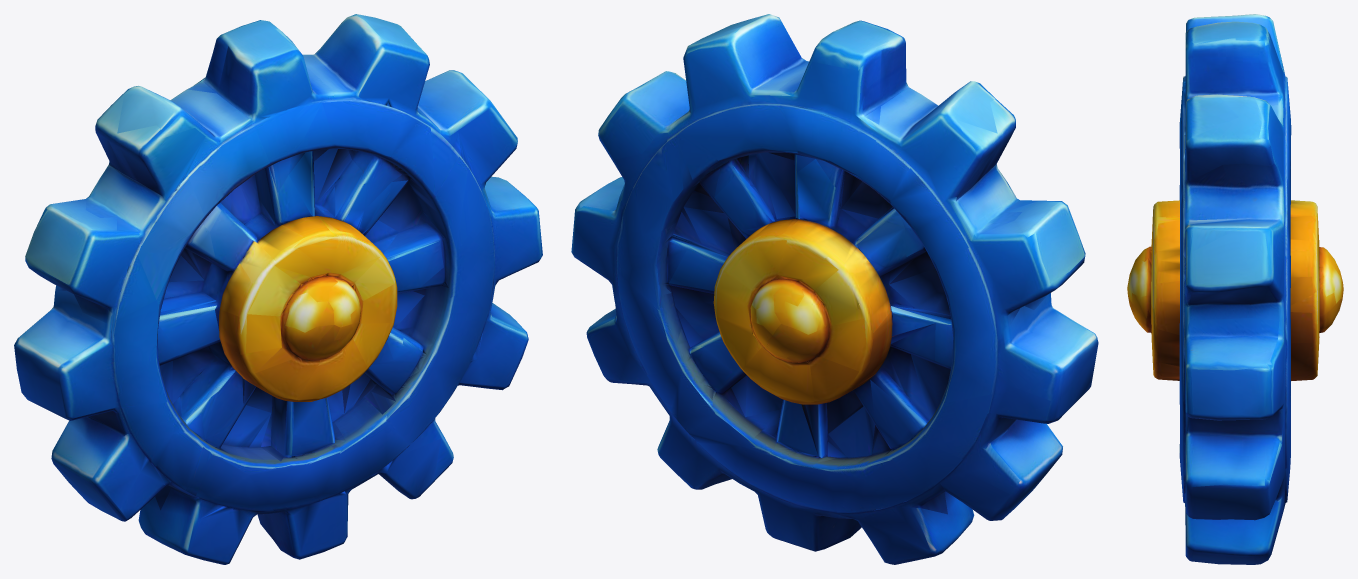
File: gear_v2_tripo.glb
The picture shows the model from 3 angles, left to right: view 1: azimuth 30°, elevation 25°; view 2: azimuth 150°, elevation 25°; view 3: azimuth 270°, elevation 25°; orthographic projection. The views are drawn at different scales.
Parts seen in each view (by area): view 1: tripo_node_d218d0c1-8682-44fe-a24d-46babeba9030; view 2: tripo_node_d218d0c1-8682-44fe-a24d-46babeba9030; view 3: tripo_node_d218d0c1-8682-44fe-a24d-46babeba9030.
Part boxes in pixels (x1,y1,x2,y2): tripo_node_d218d0c1-8682-44fe-a24d-46babeba9030: (14, 14, 542, 564); tripo_node_d218d0c1-8682-44fe-a24d-46babeba9030: (571, 14, 1098, 564); tripo_node_d218d0c1-8682-44fe-a24d-46babeba9030: (1127, 14, 1343, 564).
Size of the model in its own units: 0.9803 by 0.9805 by 0.3835.
1 material, 1 textured.
